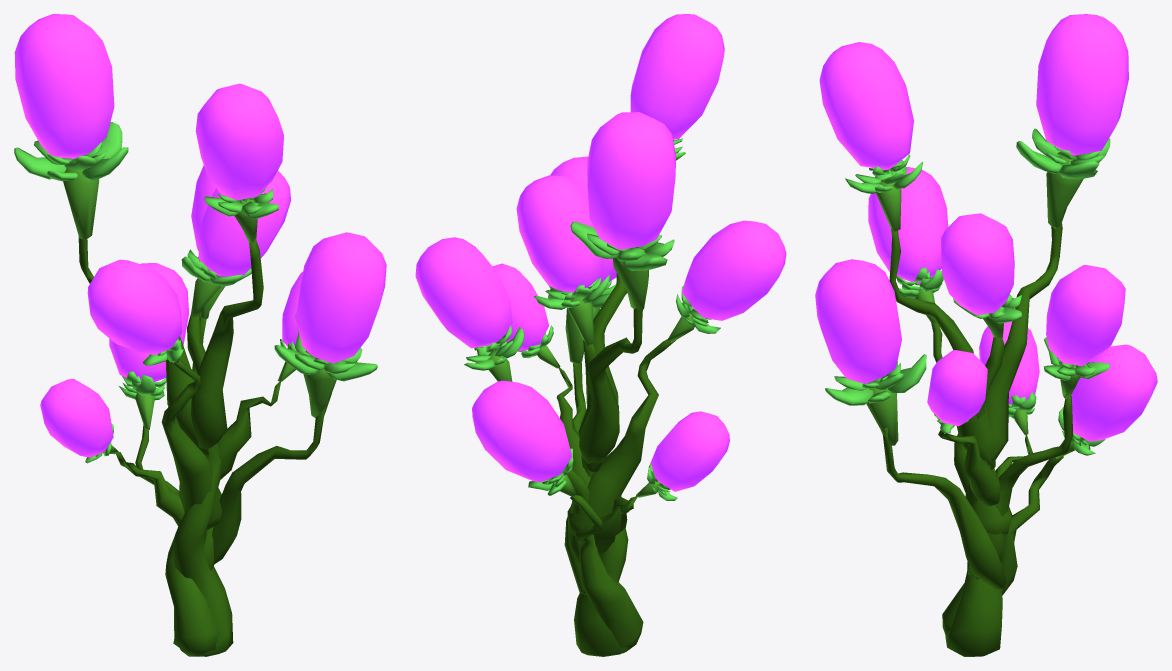
Rendered from eggplant_stage_2.glb.
3 renders of one model, left to right at view 1: azimuth 30°, elevation 25°; view 2: azimuth 150°, elevation 25°; view 3: azimuth 270°, elevation 25°, orthographic. The views are drawn at different scales.
Visible parts, largest first — view 1: eggplant_stage_2; view 2: eggplant_stage_2; view 3: eggplant_stage_2.
Part boxes in pixels (<box>): eggplant_stage_2: <box>14,14,386,656</box>; eggplant_stage_2: <box>415,14,786,656</box>; eggplant_stage_2: <box>815,14,1157,656</box>.
Size of what is drawn, in the model's own units: 1.36 by 2.81 by 1.47.
